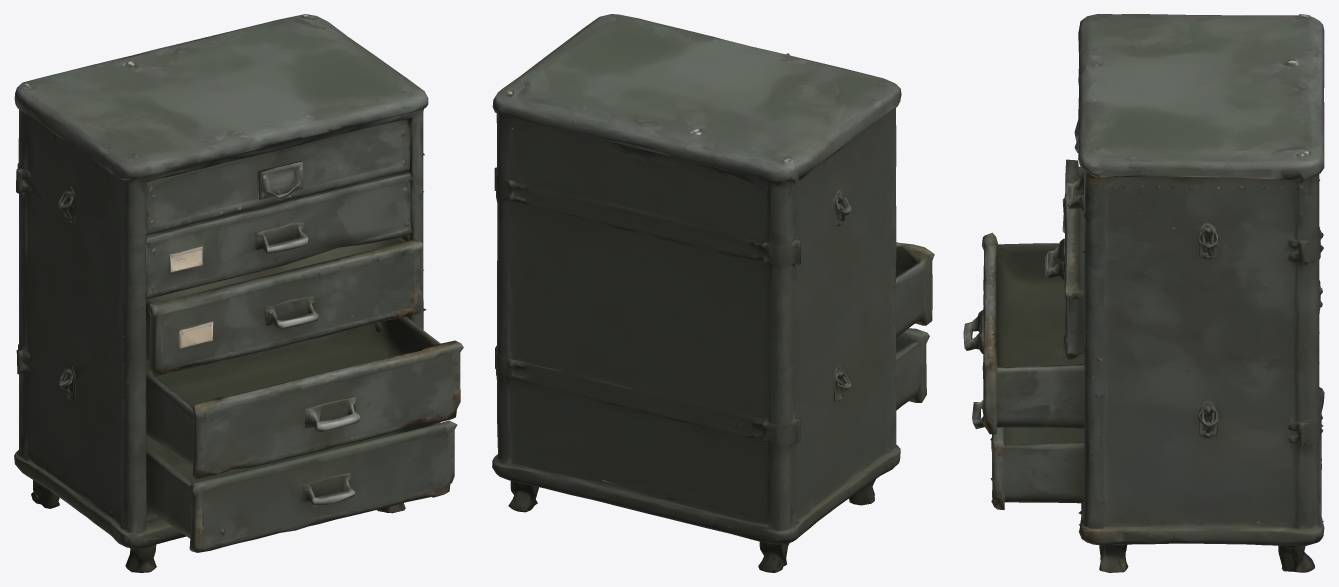
Rendered from shuttle_dresser.glb.
The picture shows the model from 3 angles, left to right: view 1: azimuth 30°, elevation 25°; view 2: azimuth 150°, elevation 25°; view 3: azimuth 270°, elevation 25°; orthographic projection.
Visible parts, largest first — view 1: tripo_node_d0ed95ee-fa89-4632-9b13-0786e8c7d39a; view 2: tripo_node_d0ed95ee-fa89-4632-9b13-0786e8c7d39a; view 3: tripo_node_d0ed95ee-fa89-4632-9b13-0786e8c7d39a.
Part boxes in pixels (x1=…): tripo_node_d0ed95ee-fa89-4632-9b13-0786e8c7d39a: x1=14, y1=14, x2=463, y2=572; tripo_node_d0ed95ee-fa89-4632-9b13-0786e8c7d39a: x1=492, y1=14, x2=934, y2=572; tripo_node_d0ed95ee-fa89-4632-9b13-0786e8c7d39a: x1=963, y1=14, x2=1324, y2=572.
Size of the model in its own units: 0.7704 by 0.9789 by 0.754.
1 material, 1 textured.
